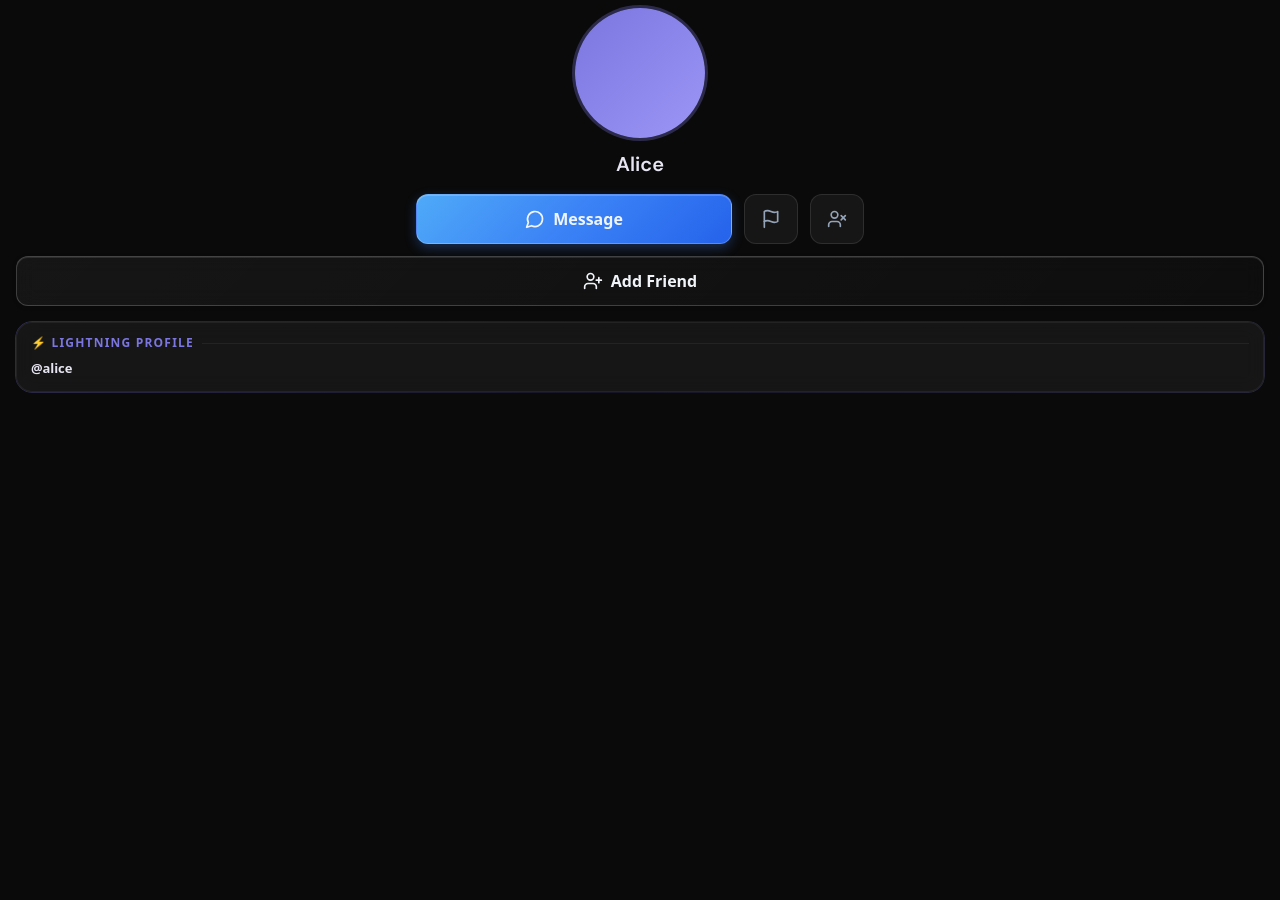
Test case: BUG-02: Block uses custom modal, not window.confirm() › ProfileTab — Block icon in profile action row › opens a dialog (role=alertdialog) when Block is clicked
Click the button named "Block Alice" at (837, 219), box [810, 194, 864, 244]
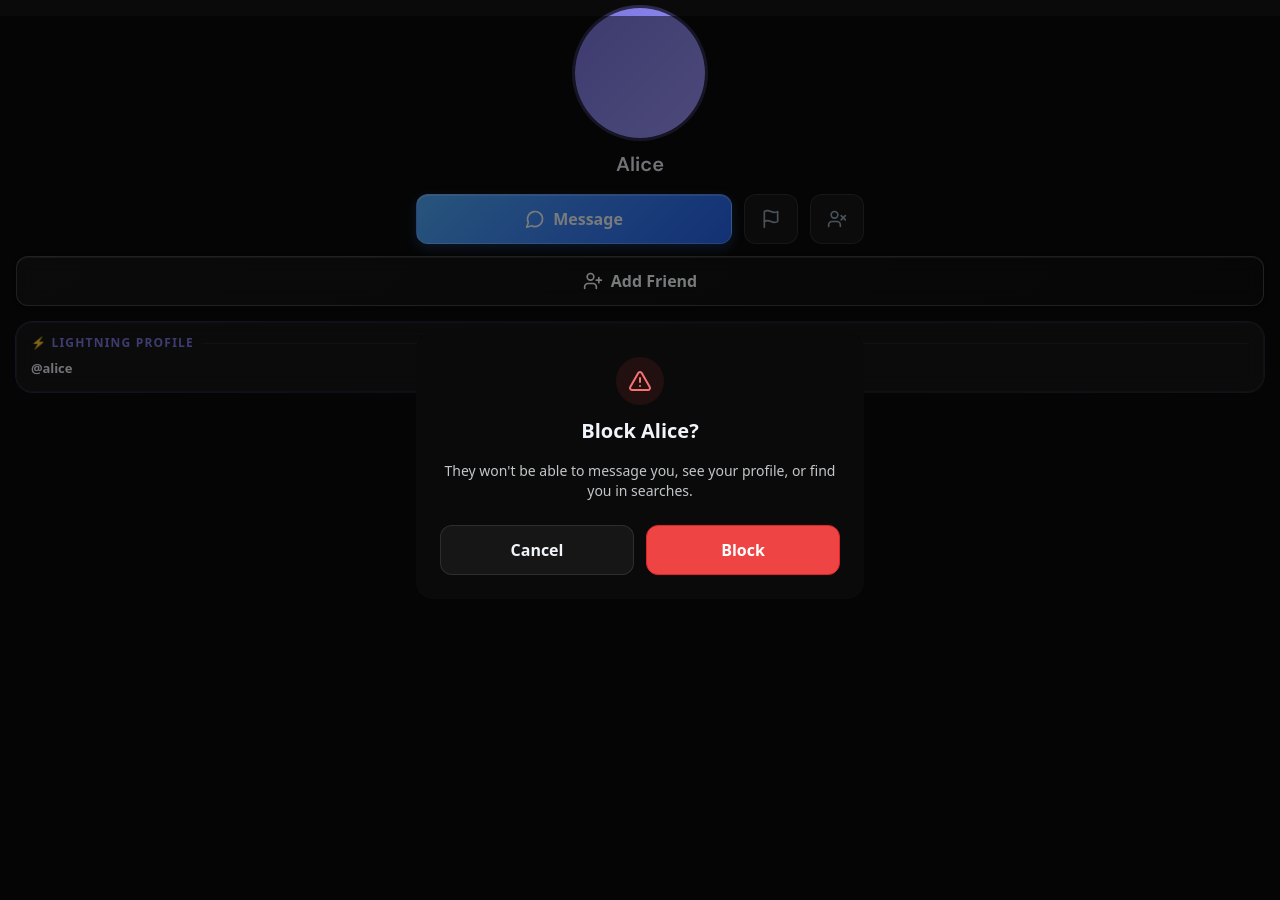
Result: the dialog is shown at [416, 333, 864, 599]
